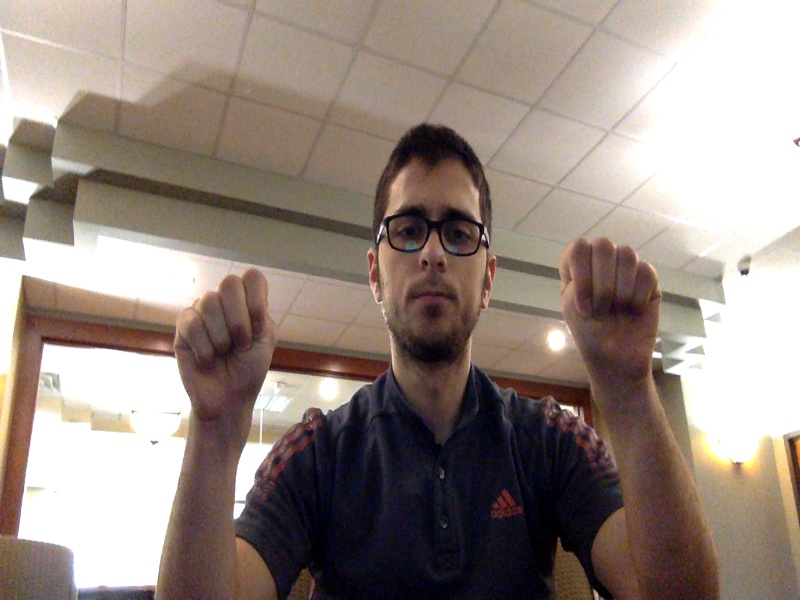0-hand: (176, 270, 276, 423), (561, 238, 660, 384)
